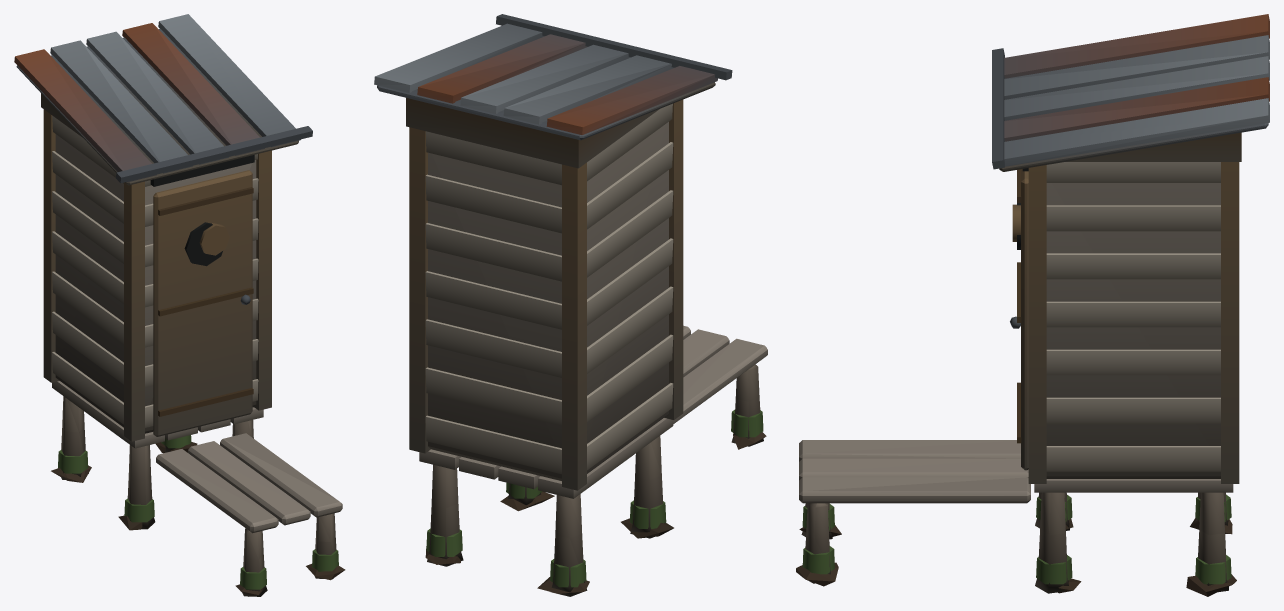
Rendered from outhouse-privy.glb.
3 renders of one model, left to right at view 1: azimuth 30°, elevation 25°; view 2: azimuth 150°, elevation 25°; view 3: azimuth 270°, elevation 25°, orthographic. The views are drawn at different scales.
Visible parts, largest first — view 1: outhouse_privy; view 2: outhouse_privy; view 3: outhouse_privy.
Part boxes in pixels (bbox=[...]): outhouse_privy: bbox=[14, 14, 345, 596]; outhouse_privy: bbox=[374, 14, 767, 596]; outhouse_privy: bbox=[796, 14, 1269, 596].
Bounding box in the file's own units: 1.6 × 3.29 × 2.86.
